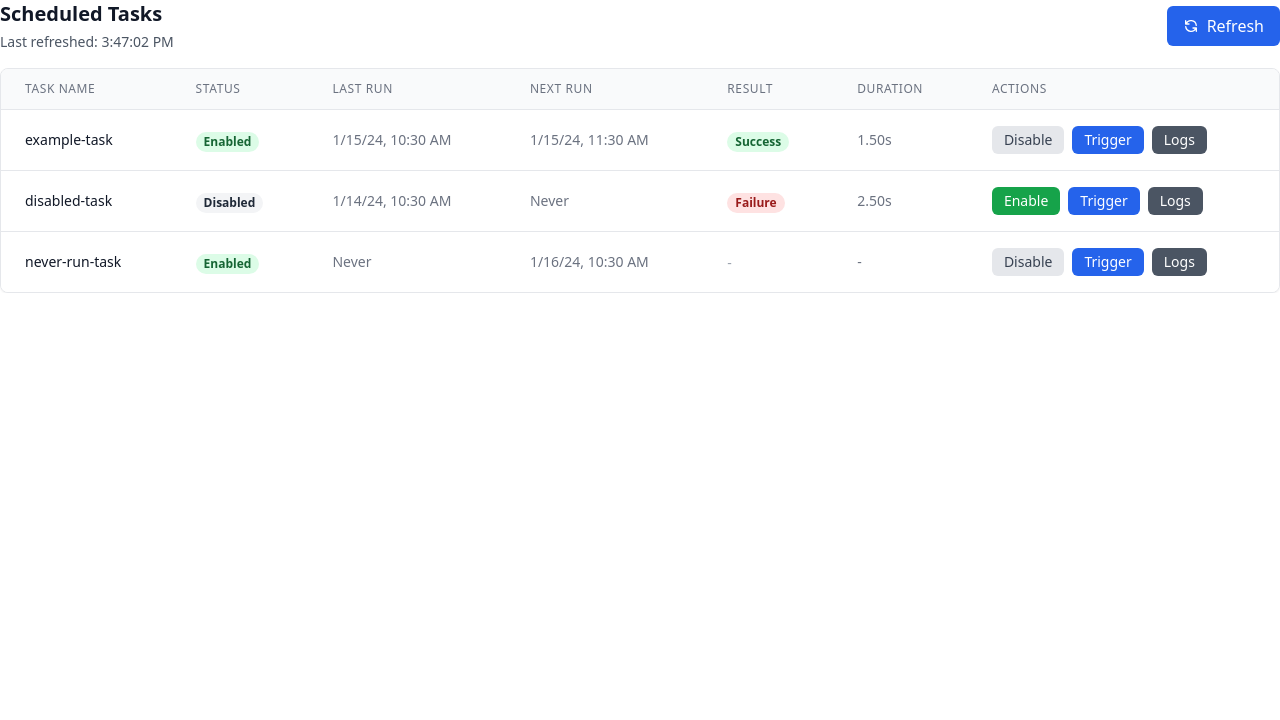
Test: ScheduledTasksTab › View logs modal opening and display › should close modal when close button is clicked
The width and height of the screenshot is (1280, 720).
expect the text "example-task" is shown: met, box [25, 130, 113, 149]
Click the button "Logs" in the row of "example-task".
click(1179, 140)  # box [1152, 126, 1207, 154]
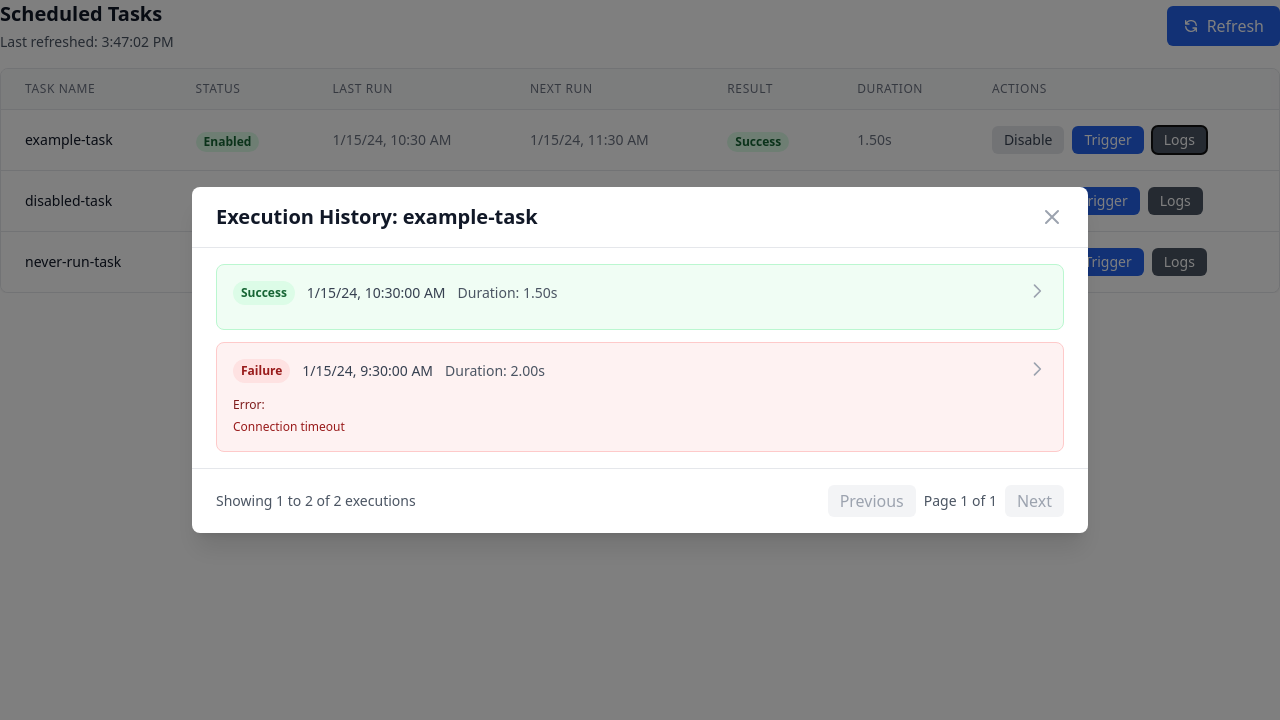
expect the heading "Execution History: example-task" is shown: met, box [216, 203, 538, 231]
Click the button named "Close".
click(1052, 217)  # box [1040, 205, 1064, 229]
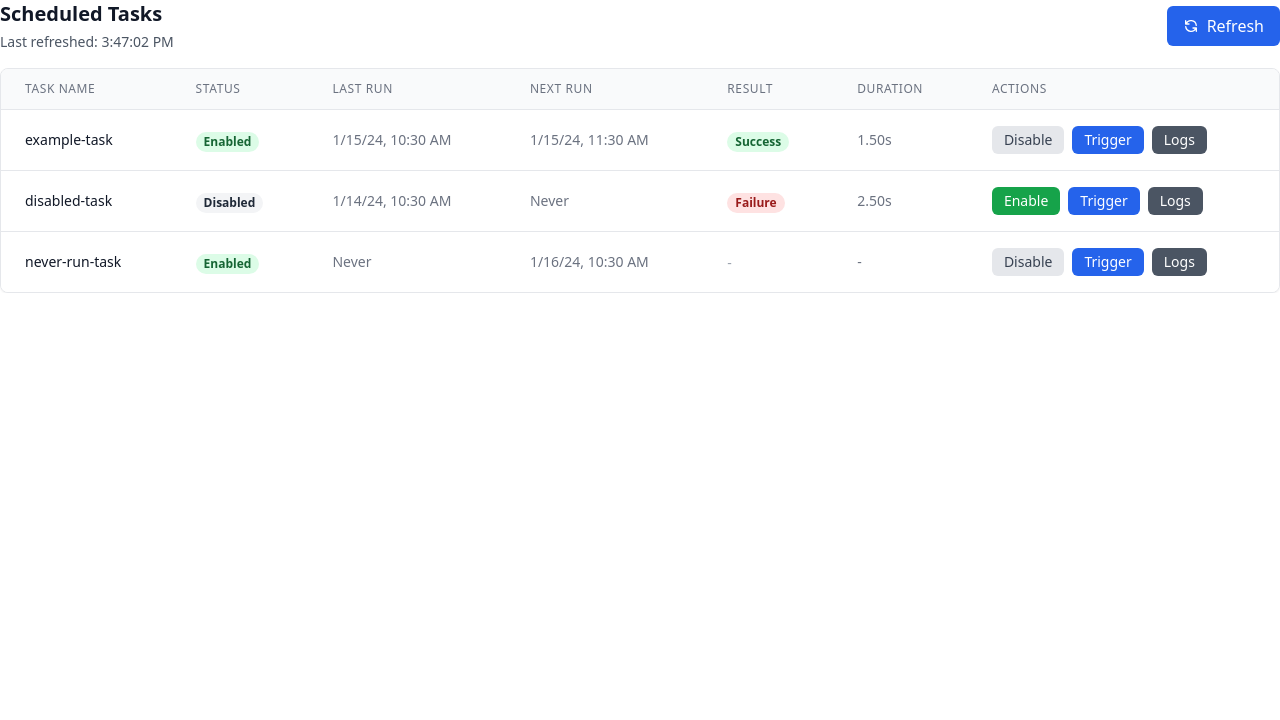
expect the heading "Execution History: example-task" is gone: met
